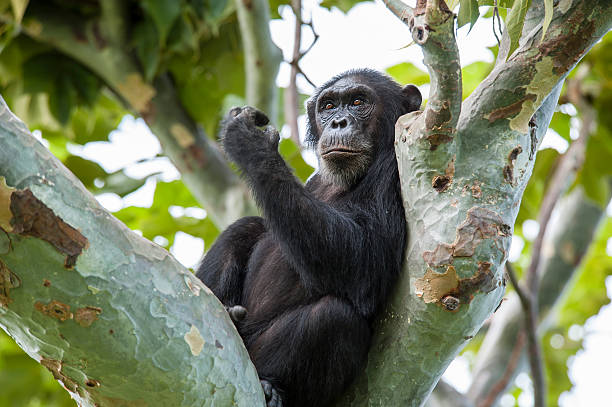chimpanzee: (295, 63, 425, 199)
